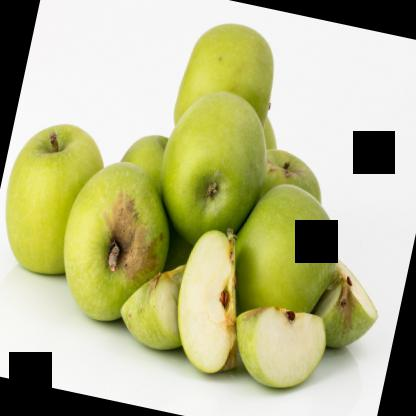apple: (49, 154, 182, 332), (148, 86, 280, 256), (0, 111, 114, 284), (222, 180, 346, 336), (172, 16, 286, 146), (166, 224, 250, 376), (224, 293, 337, 401), (115, 247, 195, 352), (312, 256, 386, 355)
